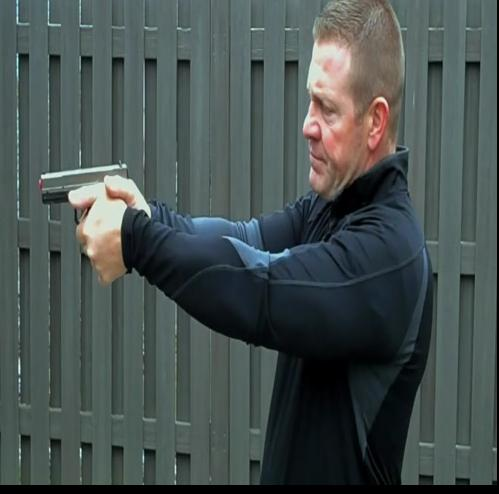pistol: (34, 160, 135, 279)
